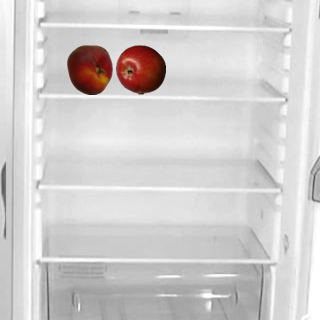Apple Braeburn: (115, 44, 165, 94)
Nectarine Flat: (64, 44, 114, 94)
